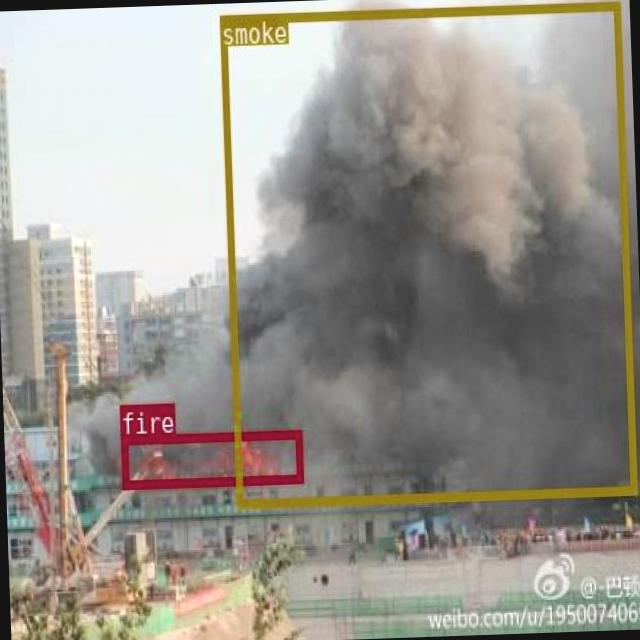fire: (118, 428, 302, 488)
smoke: (218, 0, 635, 506)
